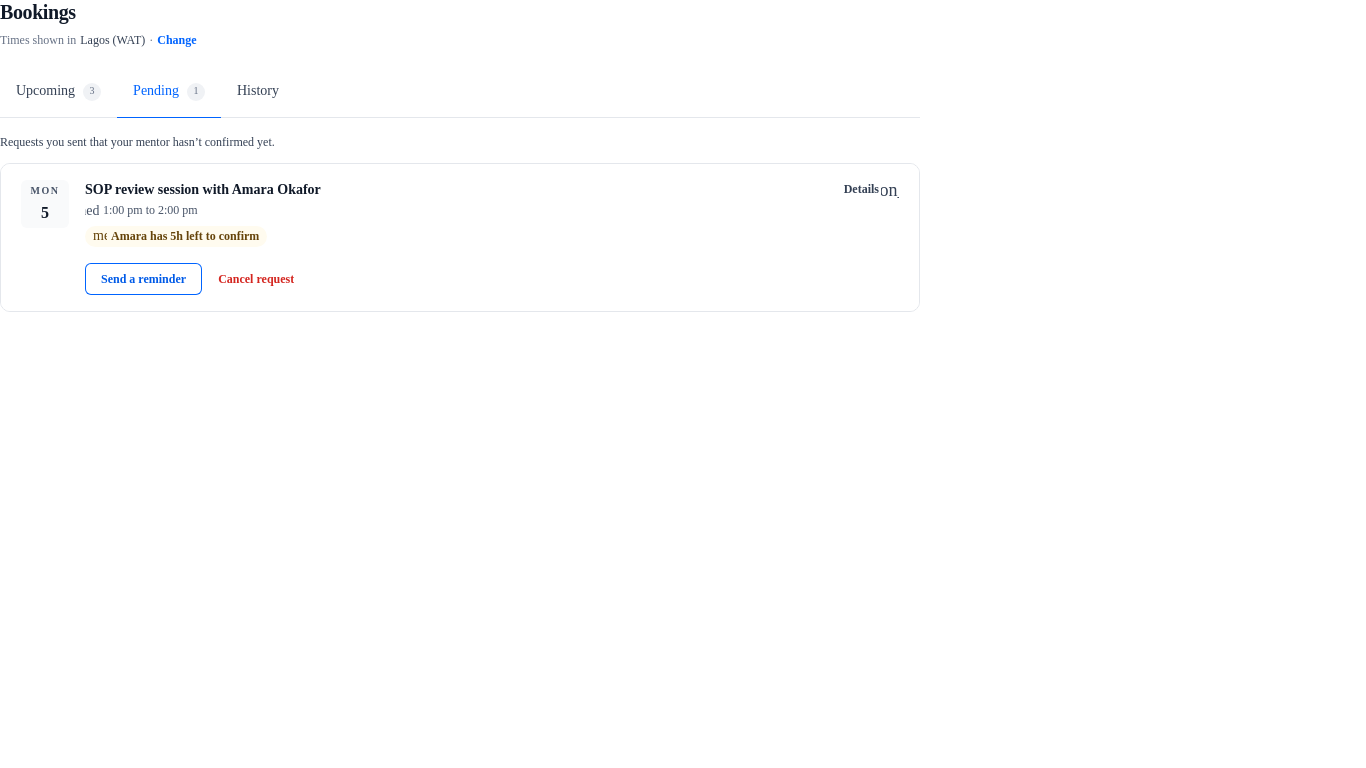
Test: the actions appear only where they can succeed › the row’s Cancel request asks first, in the withdraw dialog
Click the button "Cancel request" at (256, 279), box [218,271,294,287]
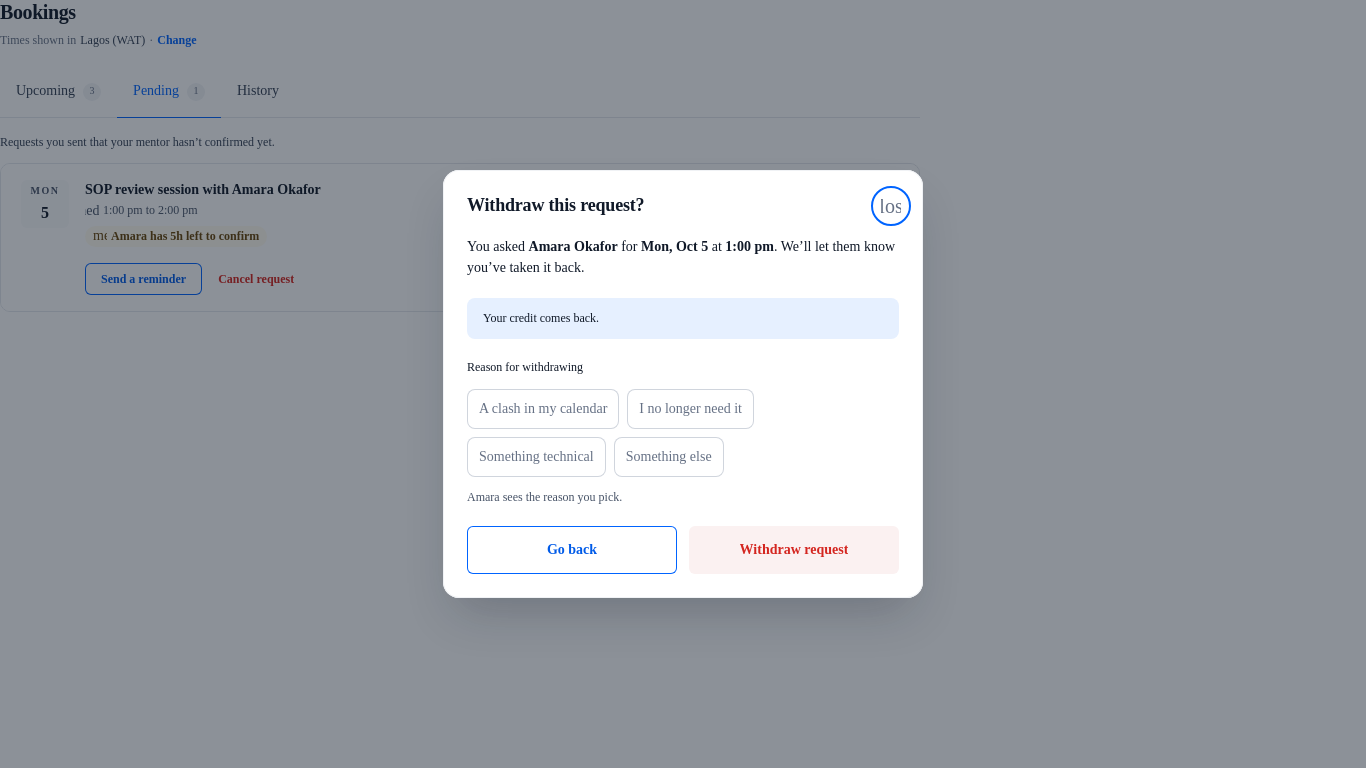
Result: the dialog "Withdraw this request?" is shown at [443,170,923,598]
Result: the text "Your credit comes back." is shown at [483,311,599,325]
